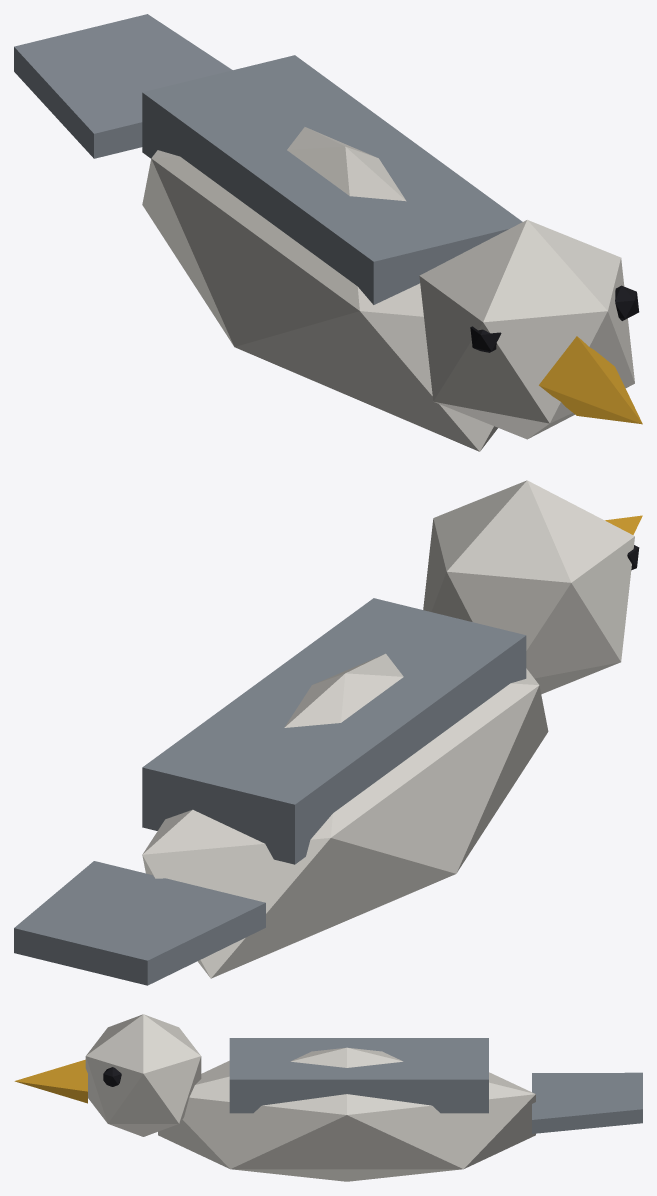
The model's file is Gull_Body.glb.
3 renders of one model, top to bottom at view 1: azimuth 30°, elevation 25°; view 2: azimuth 150°, elevation 25°; view 3: azimuth 270°, elevation 25°, orthographic. The views are drawn at different scales.
Parts seen in each view (by area): view 1: Gull_Body; view 2: Gull_Body; view 3: Gull_Body.
Boxes of the visible parts, x1,y1,x2,y2 form: Gull_Body: (14,14,642,451); Gull_Body: (14,480,642,985); Gull_Body: (14,1014,642,1181).
Bounding box in the file's own units: 0.2326 × 0.3 × 1.02.
